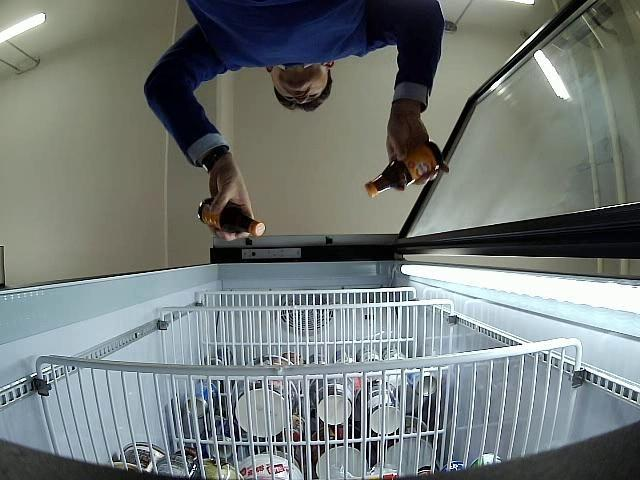17_vita500: (363, 140, 442, 198), (198, 196, 266, 238)
